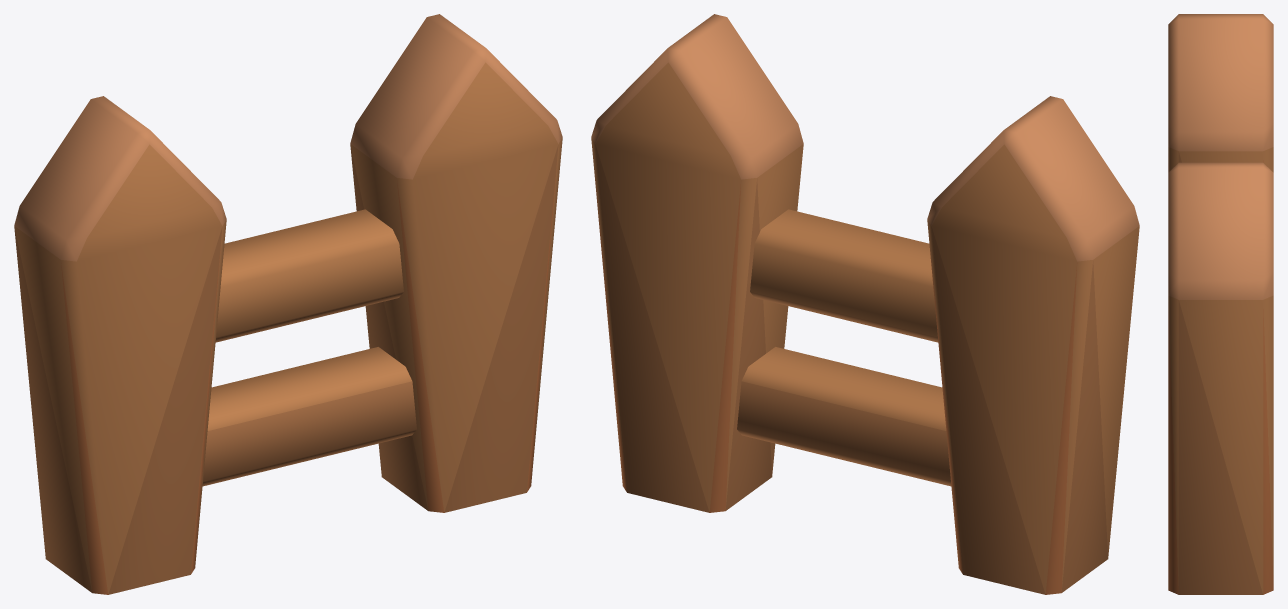
File: itch_tiny_homely_house_fence_straight.glb
3 views of the same model, side by side, from view 1: azimuth 30°, elevation 25°; view 2: azimuth 150°, elevation 25°; view 3: azimuth 270°, elevation 25° (orthographic). The views are drawn at different scales.
Parts seen in each view (by area): view 1: fence_straight; view 2: fence_straight; view 3: fence_straight.
Part boxes in pixels (x1=…): fence_straight: x1=14, y1=14, x2=562, y2=594; fence_straight: x1=591, y1=14, x2=1139, y2=594; fence_straight: x1=1168, y1=14, x2=1273, y2=594.
Size of the model in its own units: 1.18 by 1.01 by 0.2369.
